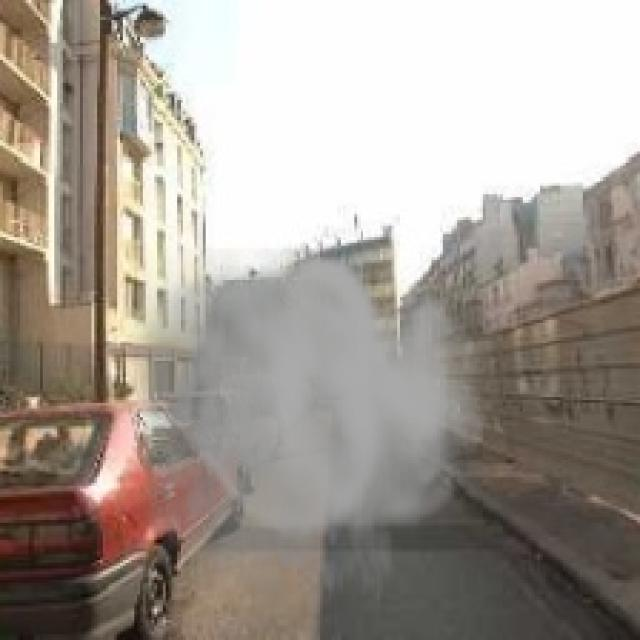smoke: (117, 249, 489, 637)
